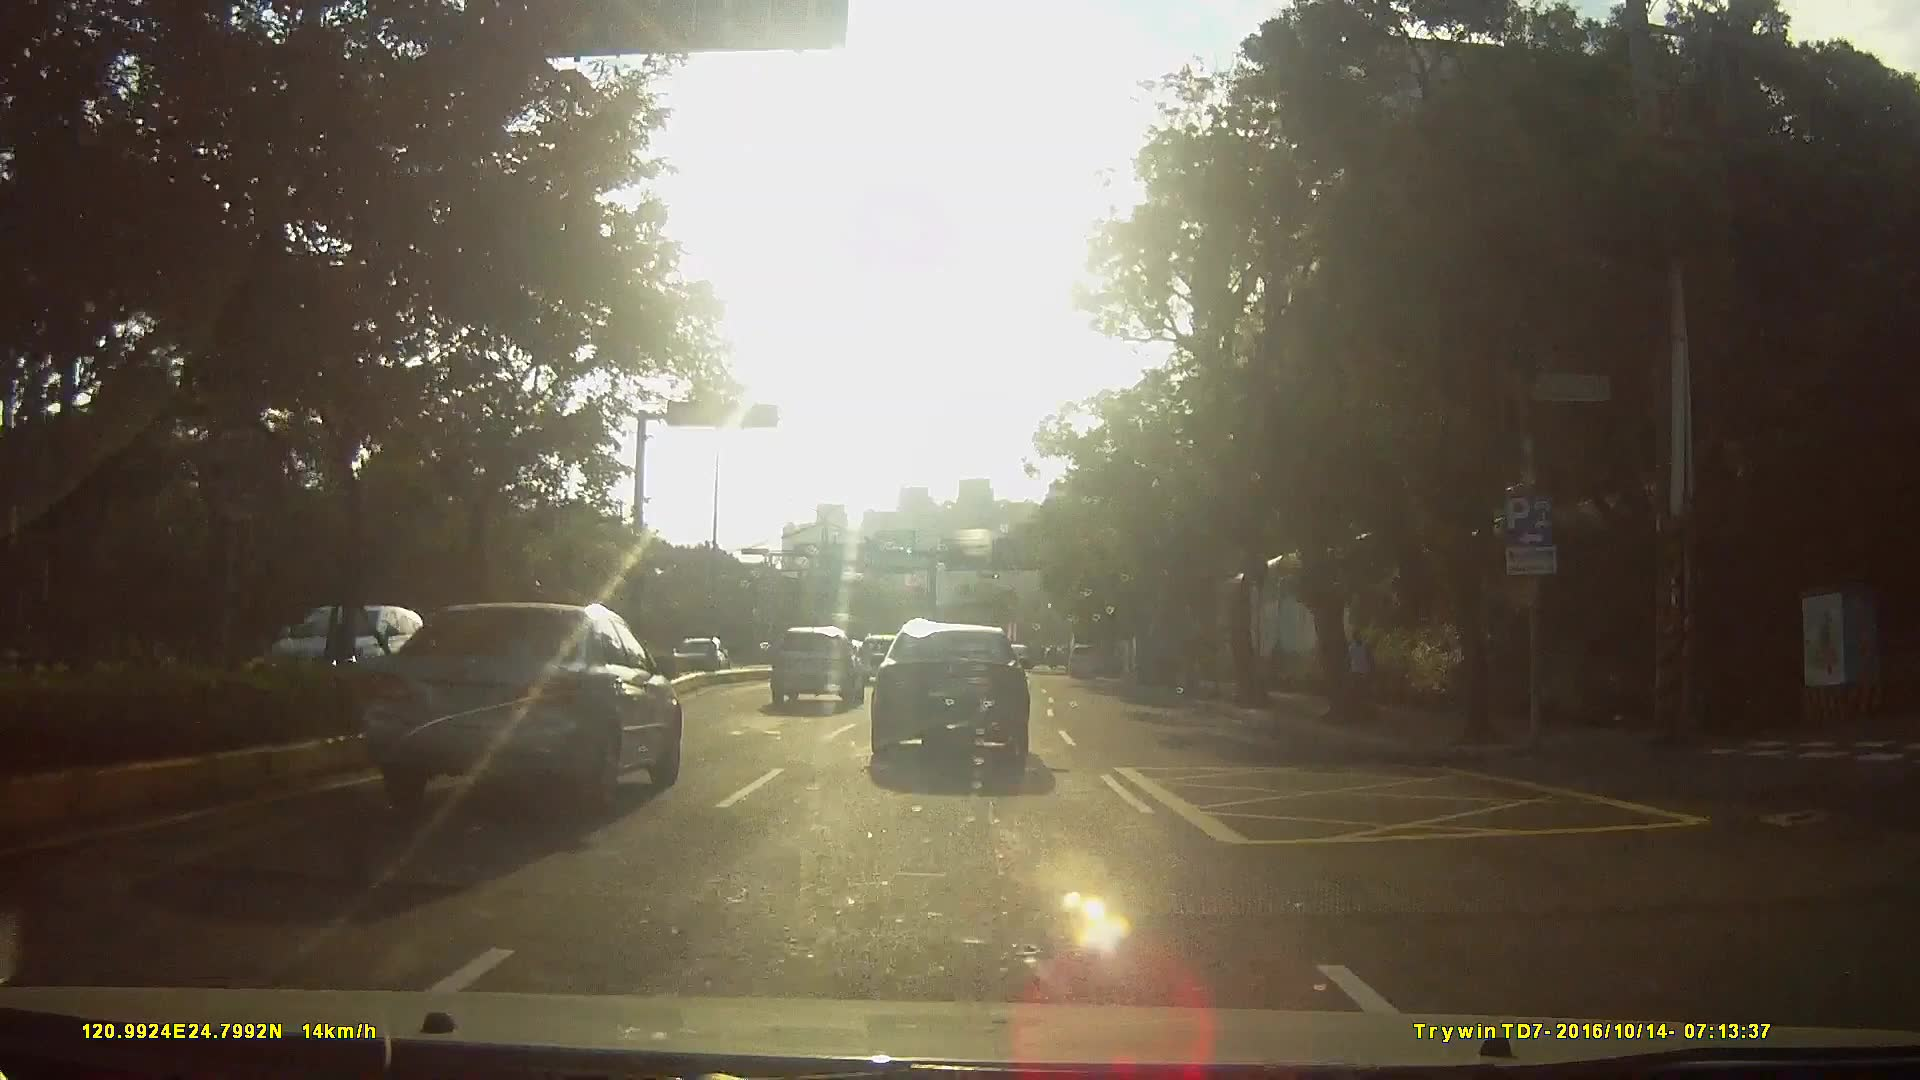vehicle: (356, 597, 680, 808), (866, 621, 1044, 767), (764, 624, 862, 709), (651, 632, 713, 676), (1062, 644, 1098, 680)
